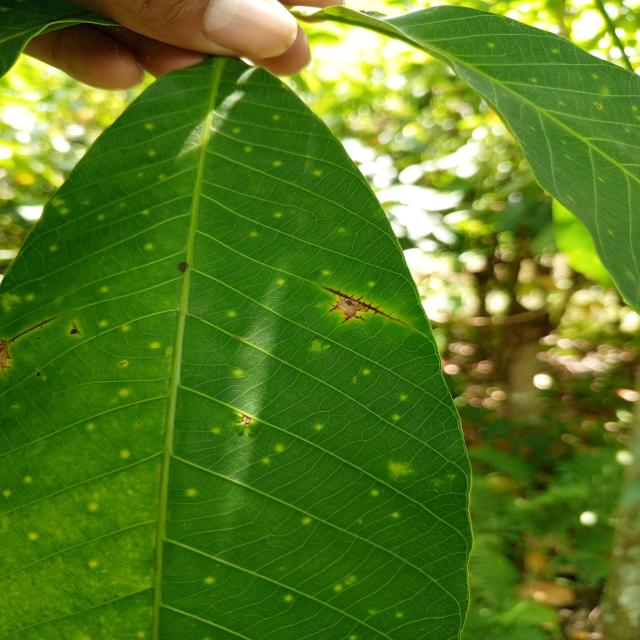Colletotrichum: (241, 416, 251, 424)
Corynespora: (319, 285, 411, 328), (8, 311, 73, 342), (70, 322, 81, 336)
Leaf-Blight: (0, 342, 9, 368)
